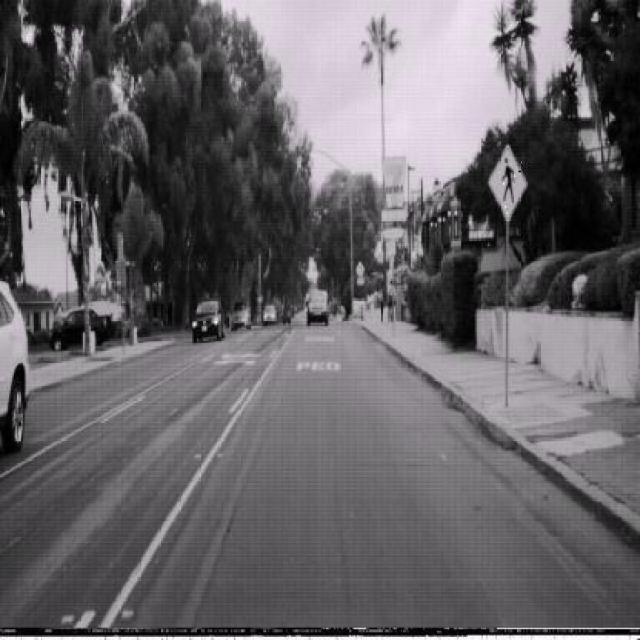pedestrianCrossing: (488, 143, 526, 222)
